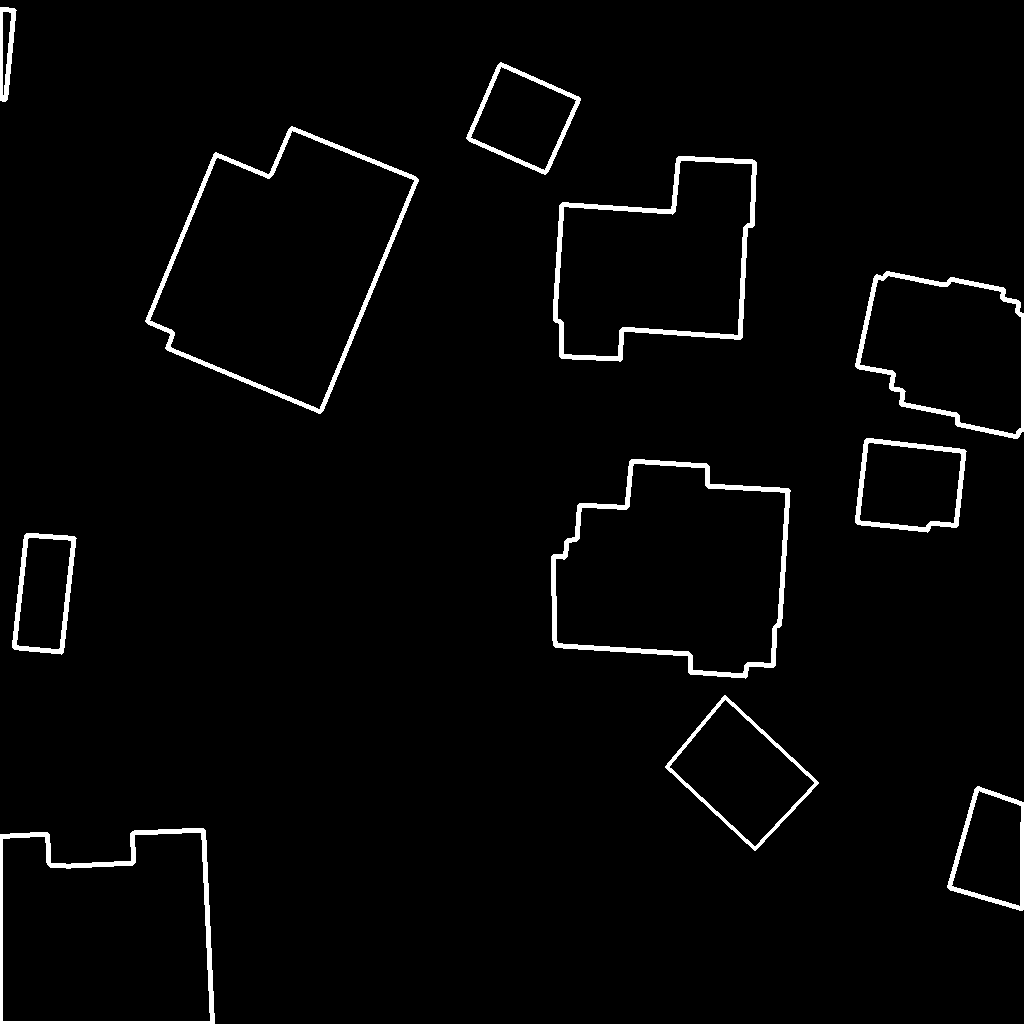building: (147, 128, 418, 413), (553, 461, 789, 677), (0, 830, 214, 1024), (555, 158, 756, 360), (857, 273, 1024, 438), (667, 697, 818, 850), (468, 64, 580, 174), (857, 440, 965, 531), (949, 788, 1024, 910), (14, 535, 75, 653), (0, 9, 15, 101)
